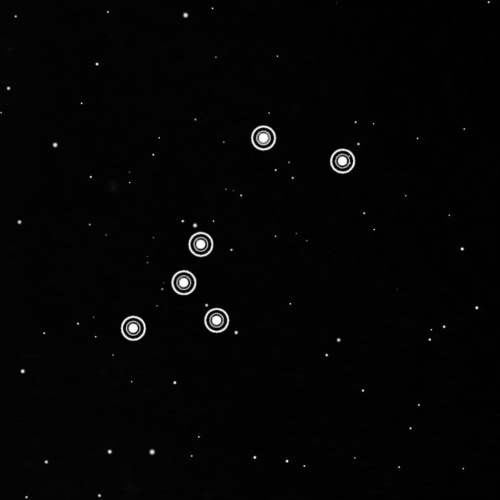canis_major: (113, 120, 358, 352)
